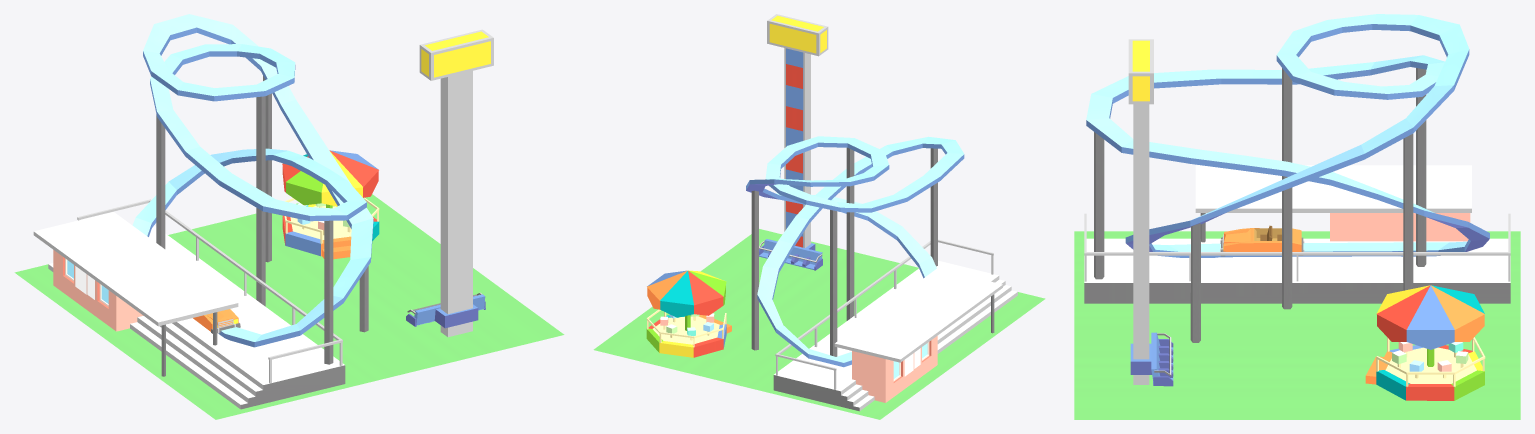
The model's file is landscape_entertainments.002.glb.
3 views of the same model, side by side, from view 1: azimuth 30°, elevation 25°; view 2: azimuth 150°, elevation 25°; view 3: azimuth 270°, elevation 25° (orthographic). The views are drawn at different scales.
Parts seen in each view (by area): view 1: landscape_entertainments.002(Clone); view 2: landscape_entertainments.002(Clone); view 3: landscape_entertainments.002(Clone).
Part boxes in pixels (left/top/right/bottom): landscape_entertainments.002(Clone): left=14, top=14, right=564, bottom=419; landscape_entertainments.002(Clone): left=593, top=14, right=1045, bottom=419; landscape_entertainments.002(Clone): left=1074, top=14, right=1520, bottom=419.
Bounding box in the file's own units: 16.13 × 12.92 × 16.
Materials: 1 (1 with a texture image).
